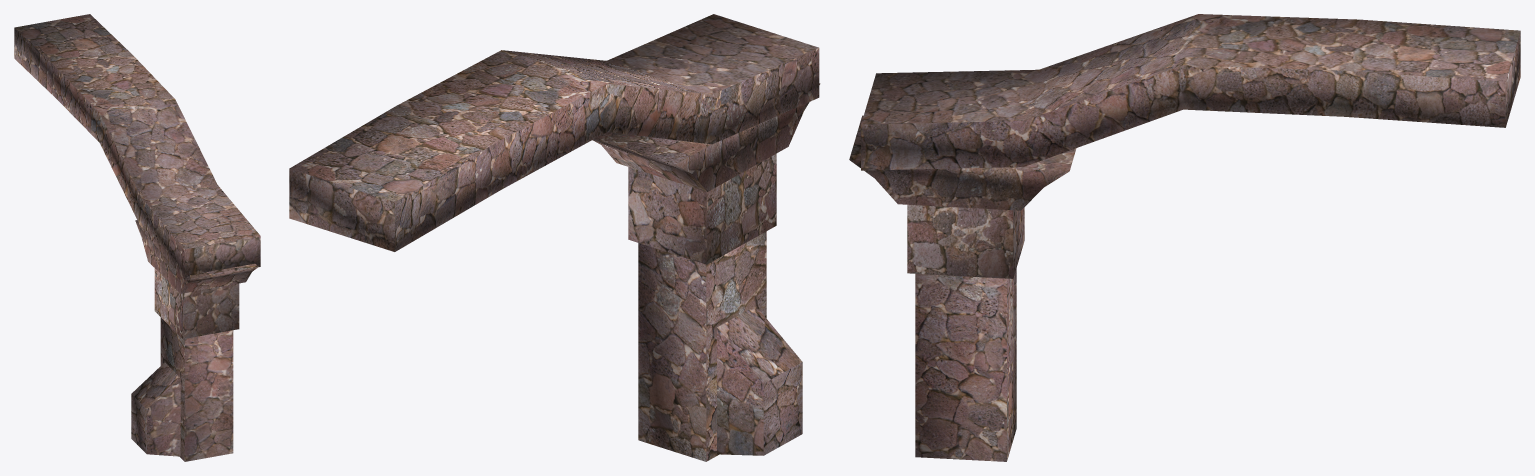
File: ColunaQuebrada.fbx
3 views of the same model, side by side, from view 1: azimuth 30°, elevation 25°; view 2: azimuth 150°, elevation 25°; view 3: azimuth 270°, elevation 25° (orthographic). The views are drawn at different scales.
Parts seen in each view (by area): view 1: ColunaQuebrada; view 2: ColunaQuebrada; view 3: ColunaQuebrada.
Boxes of the visible parts, x1,y1,x2,y2 form: ColunaQuebrada: [14, 14, 260, 461]; ColunaQuebrada: [289, 14, 820, 461]; ColunaQuebrada: [849, 14, 1520, 461].
Size of the model in its own units: 354 by 1057 by 726.
